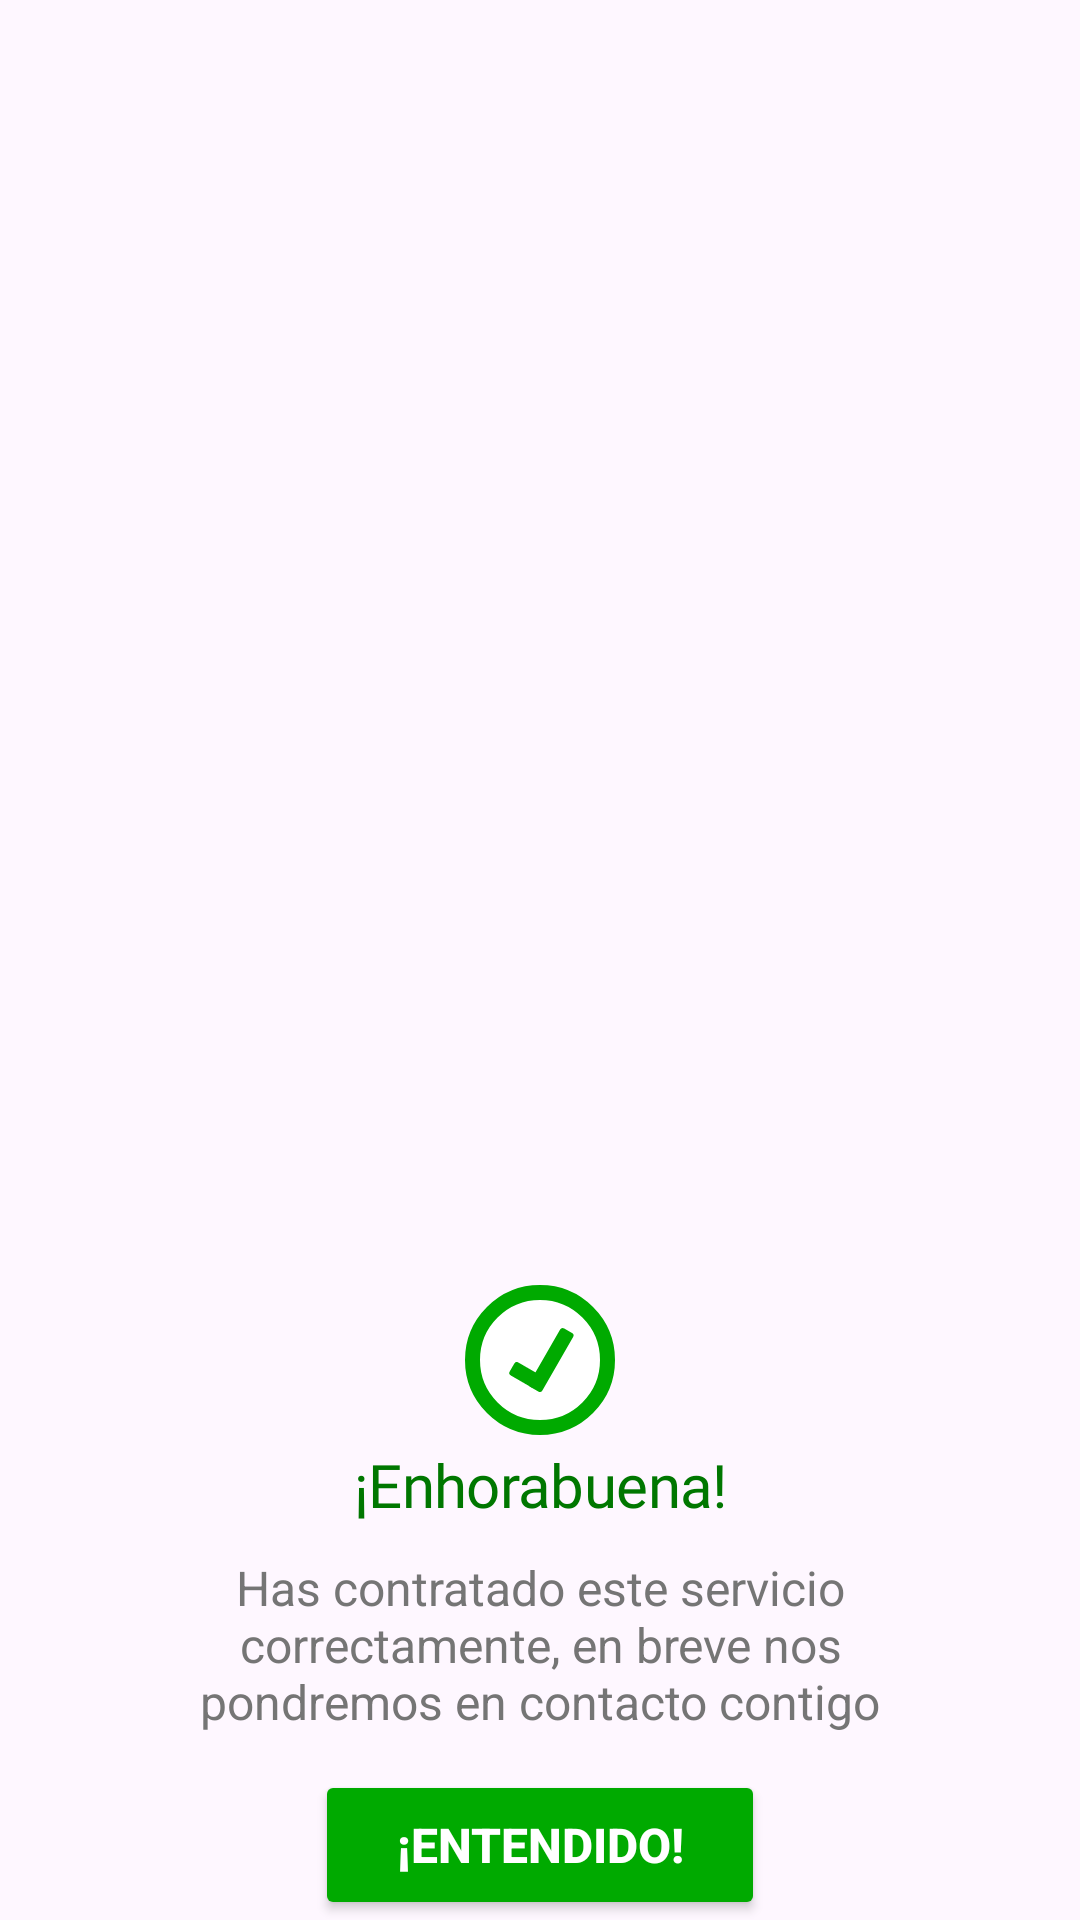

Locate icon controls on the screen. Image size 1080x1920, boxes as [x1=x1, y1=y1, x2=x2, y2=y2].
exito: [x1=465, y1=1285, x2=615, y2=1435]
